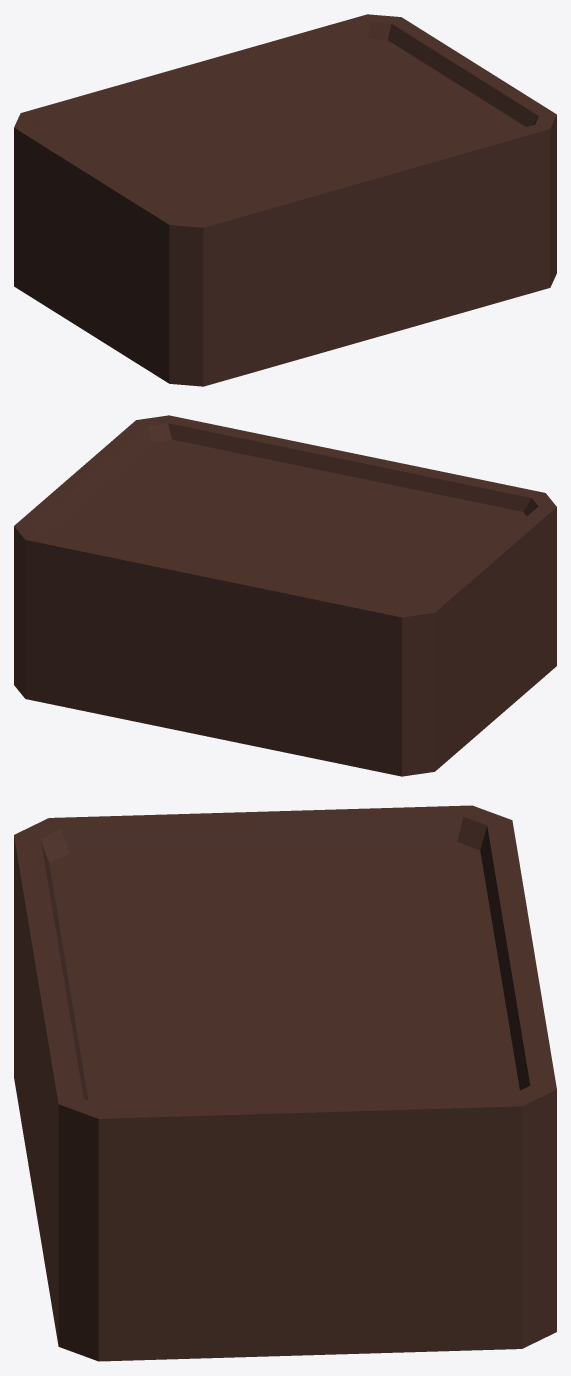
The model's file is squaremanhole01.fbx.
3 views of the same model, one above another, from view 1: azimuth 30°, elevation 25°; view 2: azimuth 150°, elevation 25°; view 3: azimuth 270°, elevation 25° (orthographic). The views are drawn at different scales.
Parts seen in each view (by area): view 1: manhole square.001; view 2: manhole square.001; view 3: manhole square.001.
Boxes of the visible parts, <box> form: manhole square.001: <box>14,14,556,386</box>; manhole square.001: <box>14,415,556,776</box>; manhole square.001: <box>14,805,556,1361</box>.
Bounding box in the file's own units: 33.25 × 12 × 24.34.
